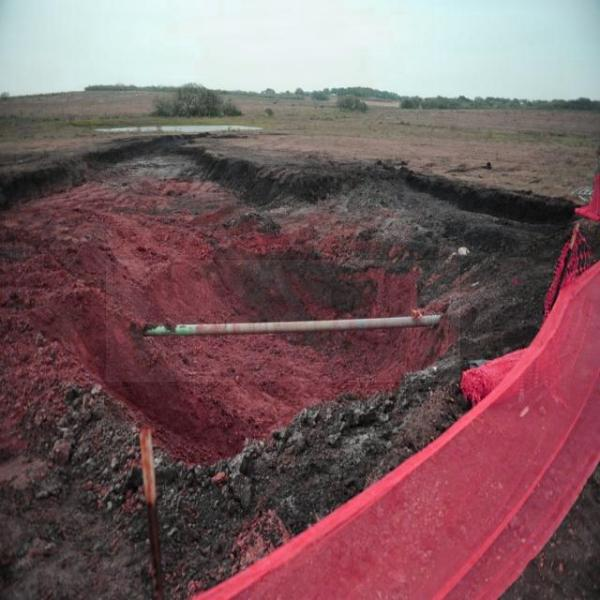no leak: (106, 260, 460, 382)
